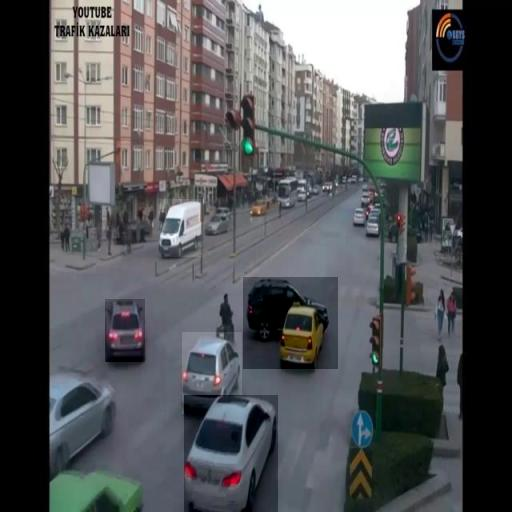小汽车: (184, 395, 278, 512), (182, 332, 242, 414), (106, 299, 146, 362), (160, 199, 202, 257)
小汽车撞小汽车: (243, 277, 338, 369)
